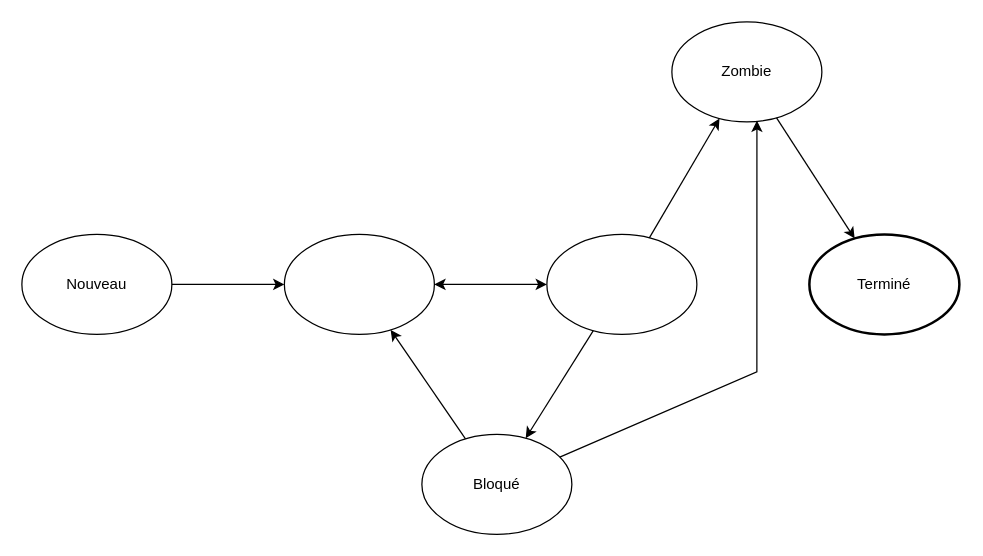
Image size: 983x556. Some labels were removed from this diagram. Here are the shapes that lost their labels. From the top down, the centre of each, then its label:
the point at 358,283: Prêt
the point at 621,283: En Cours
